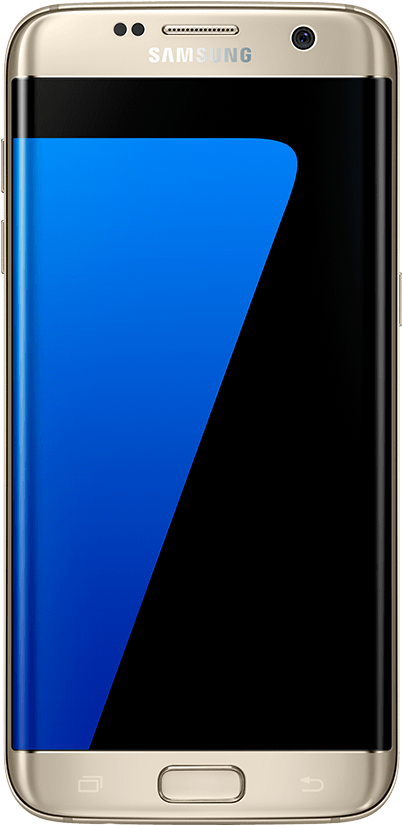phone: (2, 12, 402, 822)
